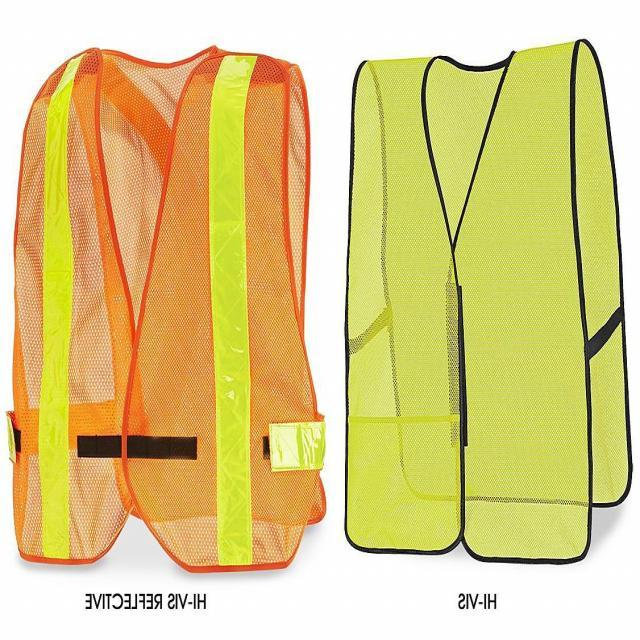reflective_jacket: (0, 0, 639, 619), (0, 41, 333, 589), (312, 33, 639, 573)
